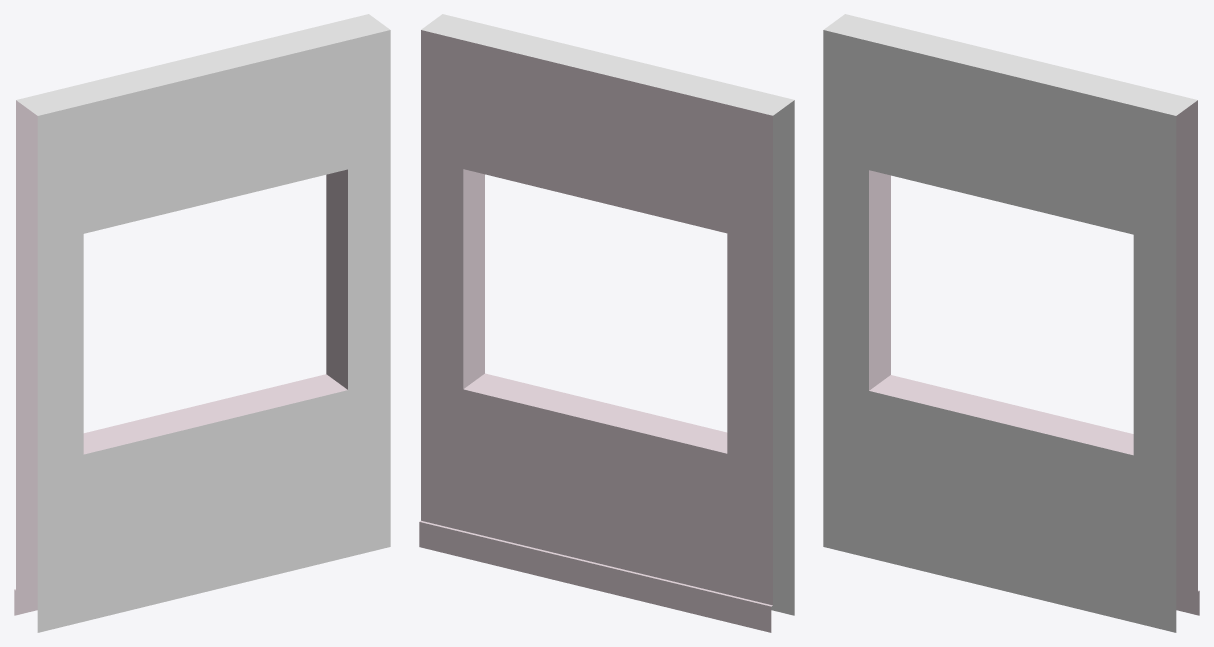
File: env_wall_window_2m_exterior.fbx
3 renders of one model, left to right at view 1: azimuth 30°, elevation 25°; view 2: azimuth 150°, elevation 25°; view 3: azimuth 330°, elevation 25°, orthographic.
Parts seen in each view (by area): view 1: Casa pared ventana 2m externa; view 2: Casa pared ventana 2m externa; view 3: Casa pared ventana 2m externa.
Part boxes in pixels (x1,y1,x2,y2): Casa pared ventana 2m externa: (14, 14, 390, 632); Casa pared ventana 2m externa: (419, 14, 794, 632); Casa pared ventana 2m externa: (823, 14, 1199, 632).
Size of the model in its own units: 200 by 280 by 23.
Materials: 2 (2 with a texture image).
